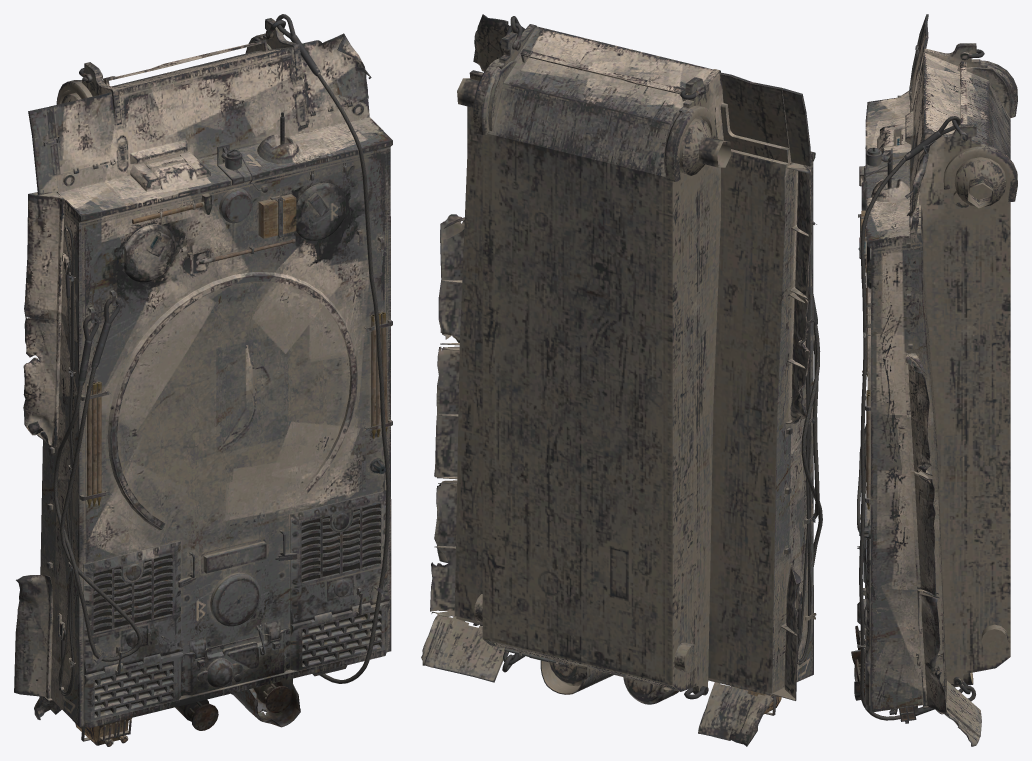
Rendered from Hull.glb.
3 views of the same model, side by side, from view 1: azimuth 30°, elevation 25°; view 2: azimuth 150°, elevation 25°; view 3: azimuth 270°, elevation 25° (orthographic). The views are drawn at different scales.
Parts seen in each view (by area): view 1: set_0_group_0; view 2: set_0_group_0; view 3: set_0_group_0.
Part boxes in pixels (x1,y1,x2,y2): set_0_group_0: (14, 14, 392, 746); set_0_group_0: (421, 14, 822, 746); set_0_group_0: (851, 14, 1017, 746).
Size of the model in its own units: 3.75 by 6.48 by 1.61.
1 material, 1 textured.
